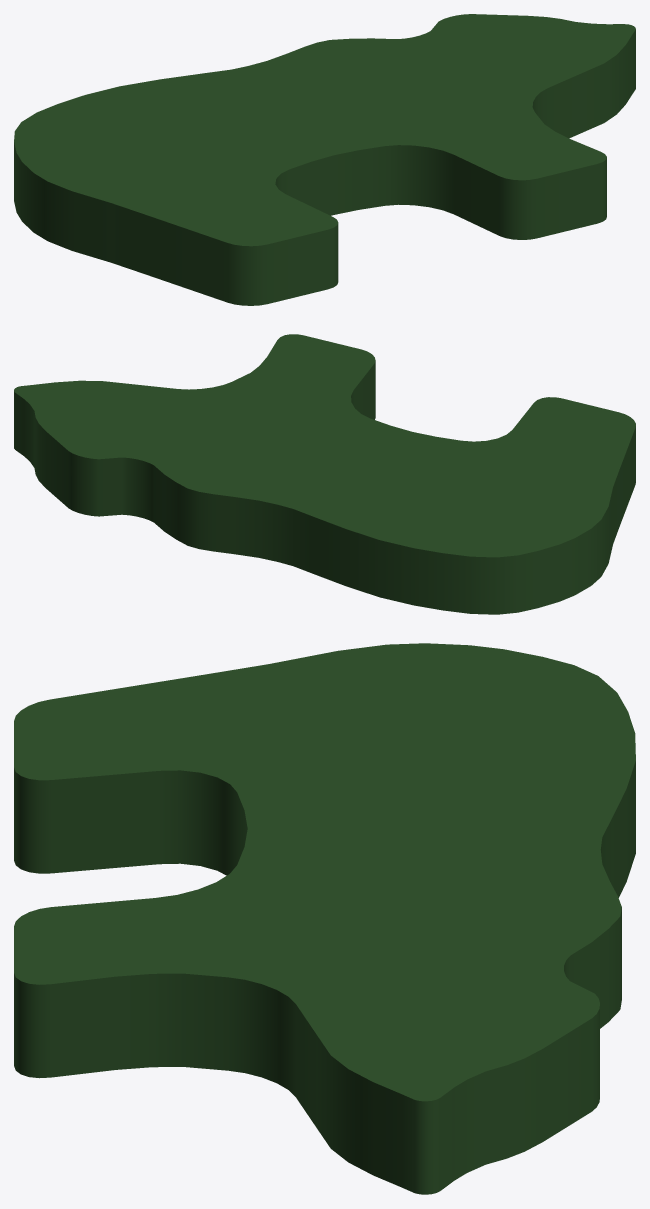
Rendered from Animal3.fbx.
The picture shows the model from 3 angles, top to bottom: view 1: azimuth 30°, elevation 25°; view 2: azimuth 150°, elevation 25°; view 3: azimuth 270°, elevation 25°; orthographic projection. The views are drawn at different scales.
Parts seen in each view (by area): view 1: animal1; view 2: animal1; view 3: animal1.
Part boxes in pixels (x1,y1,x2,y2): animal1: (14, 14, 635, 305); animal1: (14, 334, 635, 614); animal1: (14, 643, 635, 1194).
Bounding box in the file's own units: 98.93 × 9.4 × 56.76.
